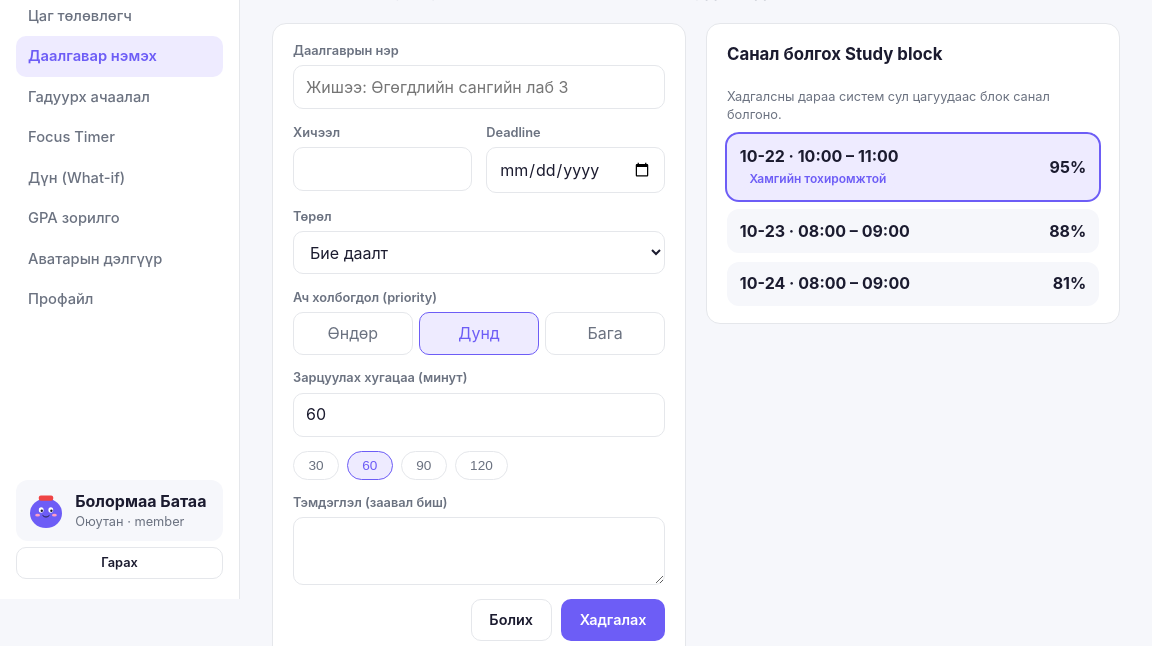
Scenario: task CRUD (mock) › хоосон гарчигт талбарын алдаа
This screenshot has width=1152, height=646.
(page scrolled)
Click the button with test id "submit".
click(613, 620)  # box [561,599,665,641]
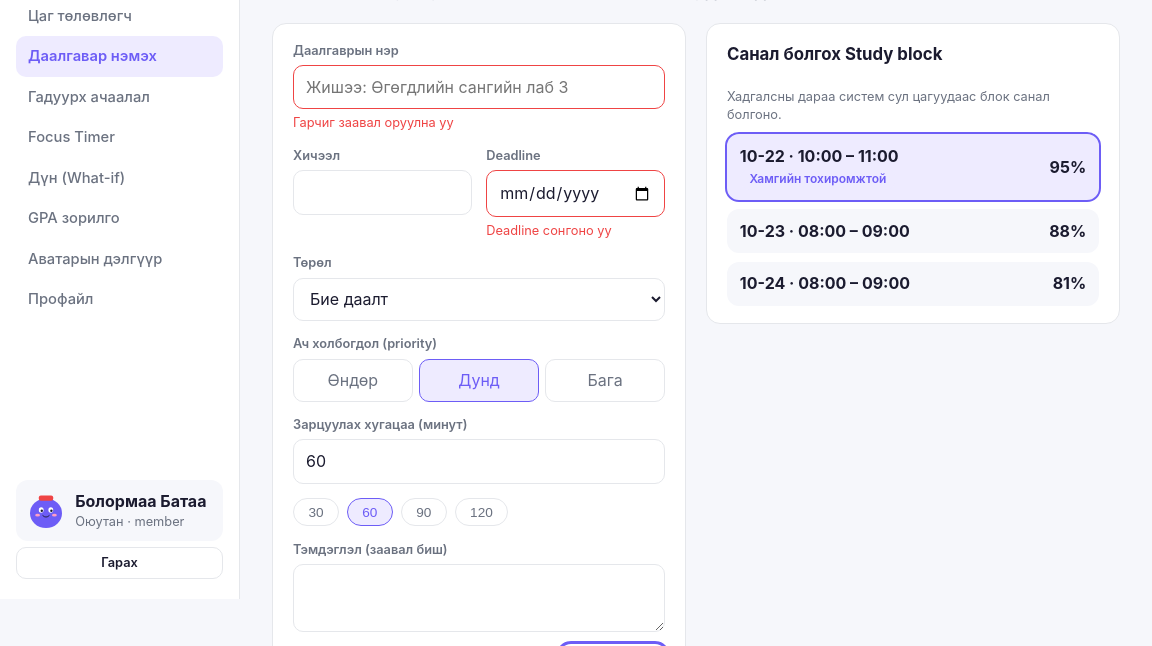
Now the message with test id "error-title" reads "Гарчиг заавал оруулна уу", box [293,115,454,130]
Now the message "Deadline сонгоно уу" is shown, box [486,222,612,238]
